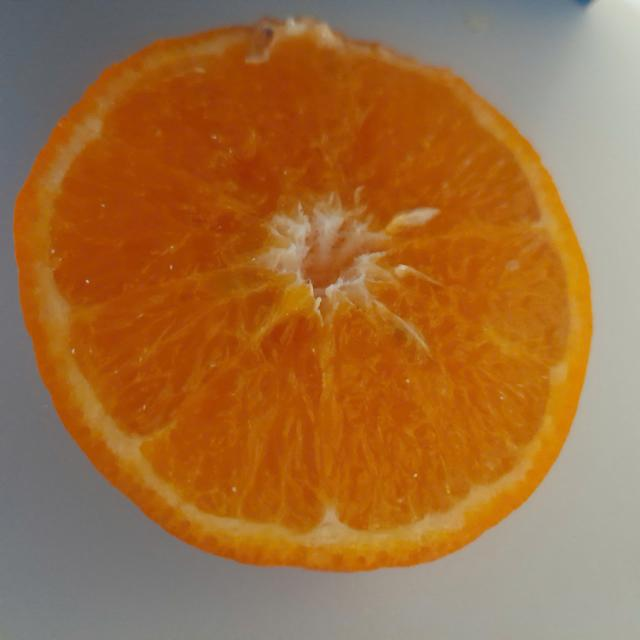Cam: (10, 5, 599, 582)
